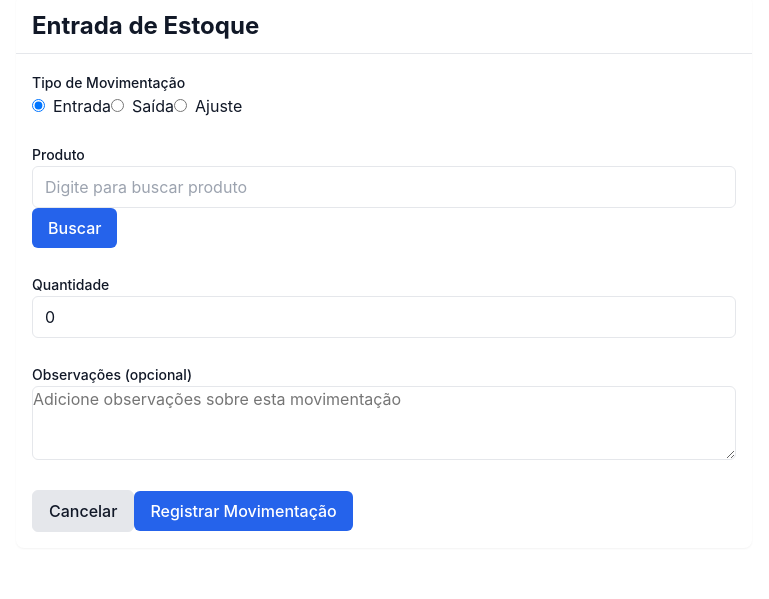
Test case: InventoryMovementView › Form Validation › should show error when quantity is negative
This screenshot has width=769, height=599.
Replace the text in the number field labelled "Quantidade" with "-10" at (384, 317), box [32, 296, 736, 338]
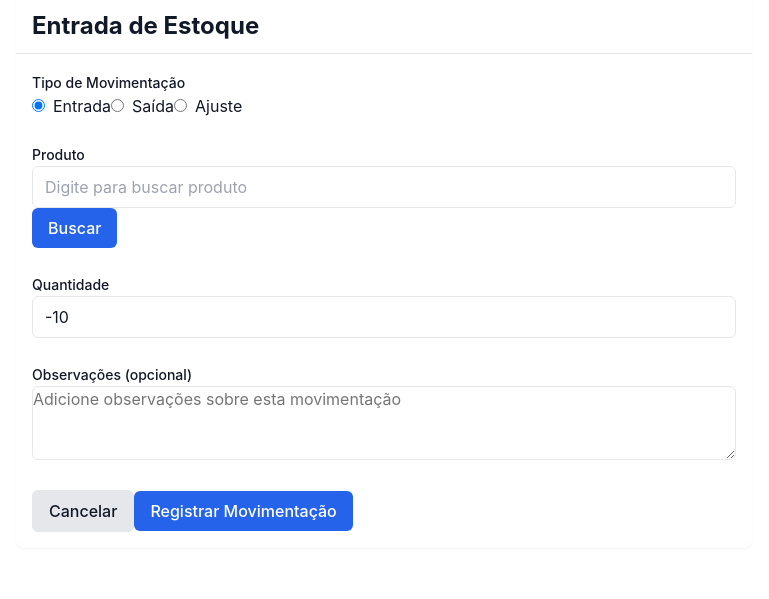
Submit the form
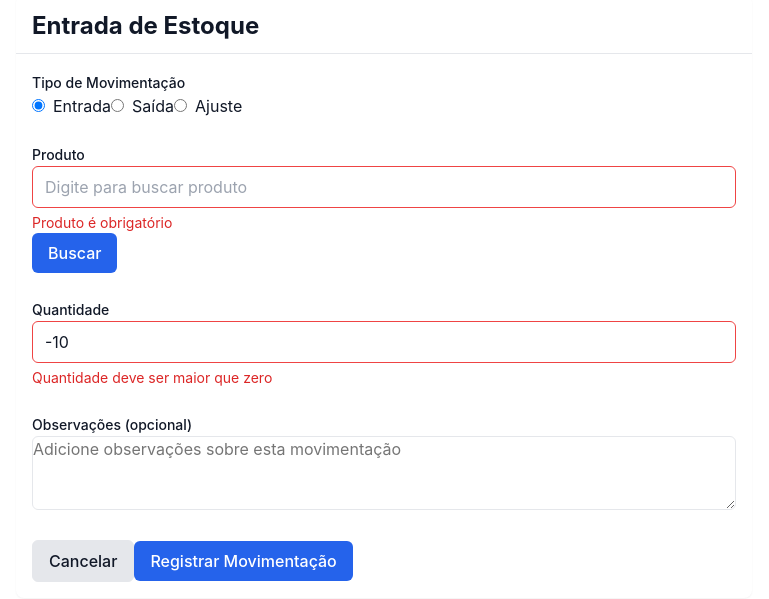
Check: the text "Quantidade deve ser maior que zero" is shown, box [32, 369, 272, 386]
